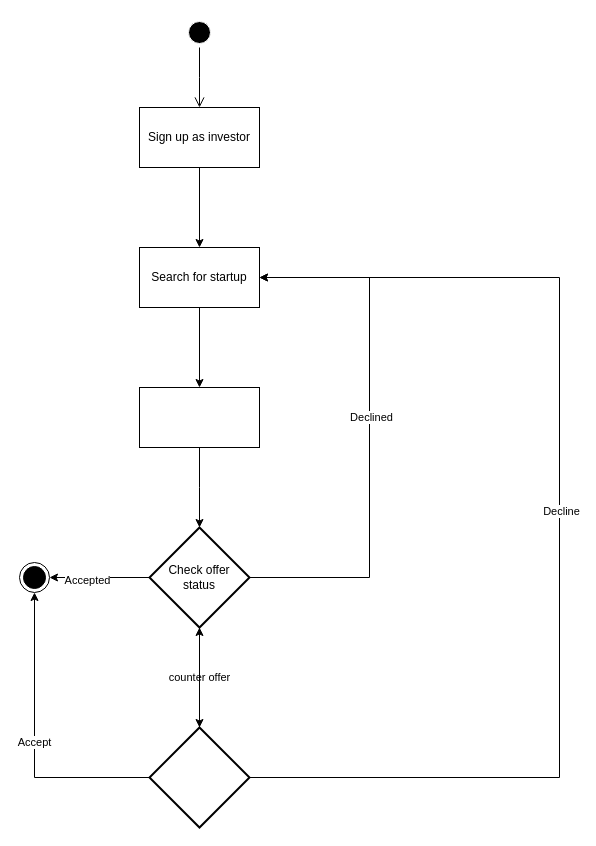
The diagram is 596 pixels wide and 846 high, and some of its shapes have lost their labels. Each missing label, with the box of its shape:
Decide on counter offer: (148, 726, 250, 828)
Make an offer: (138, 386, 260, 448)
